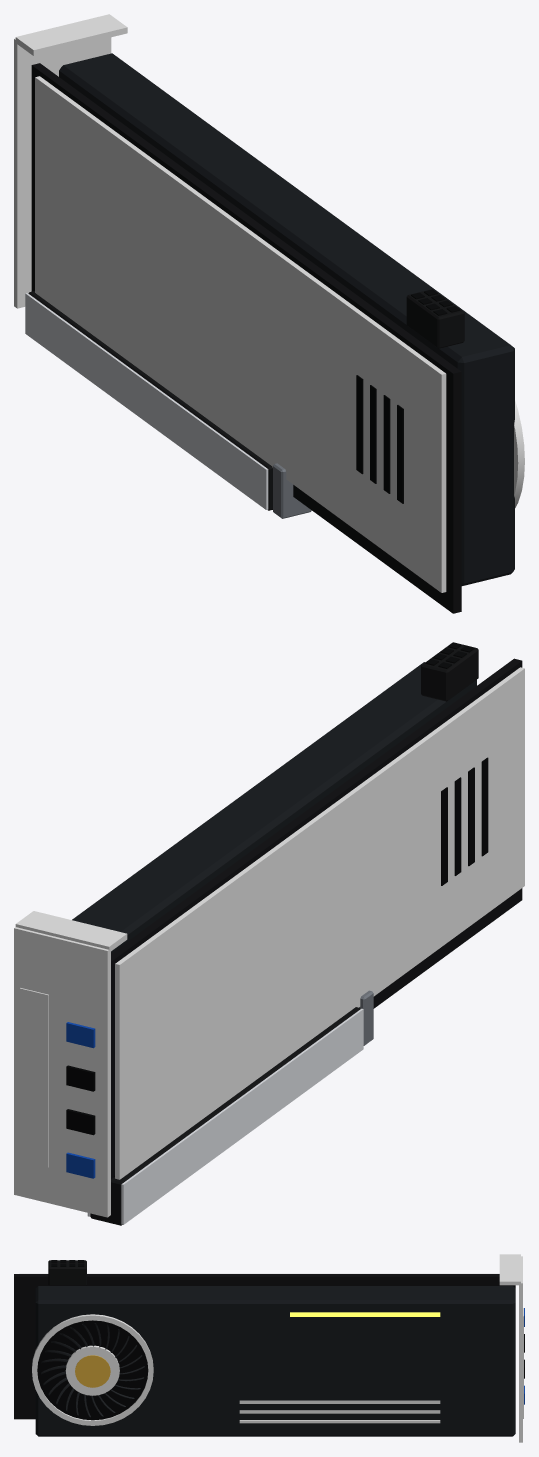
File: hwm_gpu_rtx_a4000.glb
3 views of the same model, one above another, from view 1: azimuth 30°, elevation 25°; view 2: azimuth 150°, elevation 25°; view 3: azimuth 270°, elevation 25° (orthographic). The views are drawn at different scales.
Parts seen in each view (by area): view 1: Card_0, Slot_0; view 2: Card_0, Slot_0; view 3: Card_0, Rotor_X_0.
Boxes of the visible parts, <box> form: Card_0: <box>14,14,524,613</box>; Slot_0: <box>25,291,311,518</box>; Card_0: <box>14,642,524,1217</box>; Slot_0: <box>87,990,373,1225</box>; Card_0: <box>14,1254,524,1442</box>; Rotor_X_0: <box>41,1323,144,1417</box>.
Bounding box in the file's own units: 0.0398 × 0.1076 × 0.2852.
